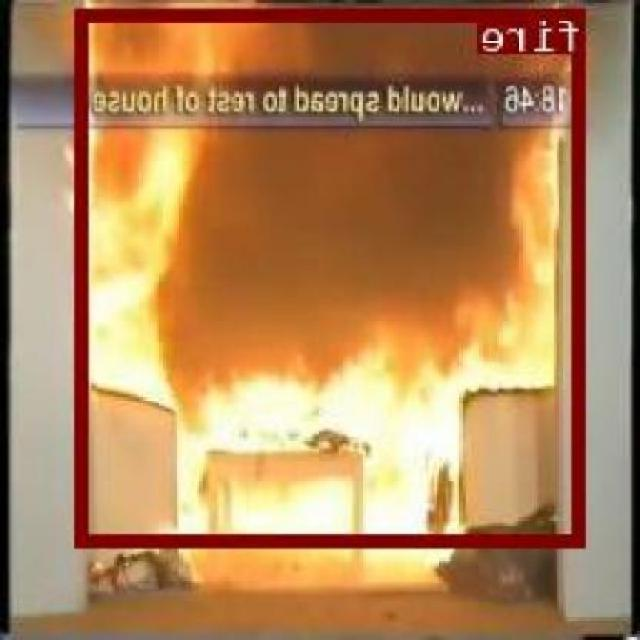fire: (79, 6, 586, 545)
